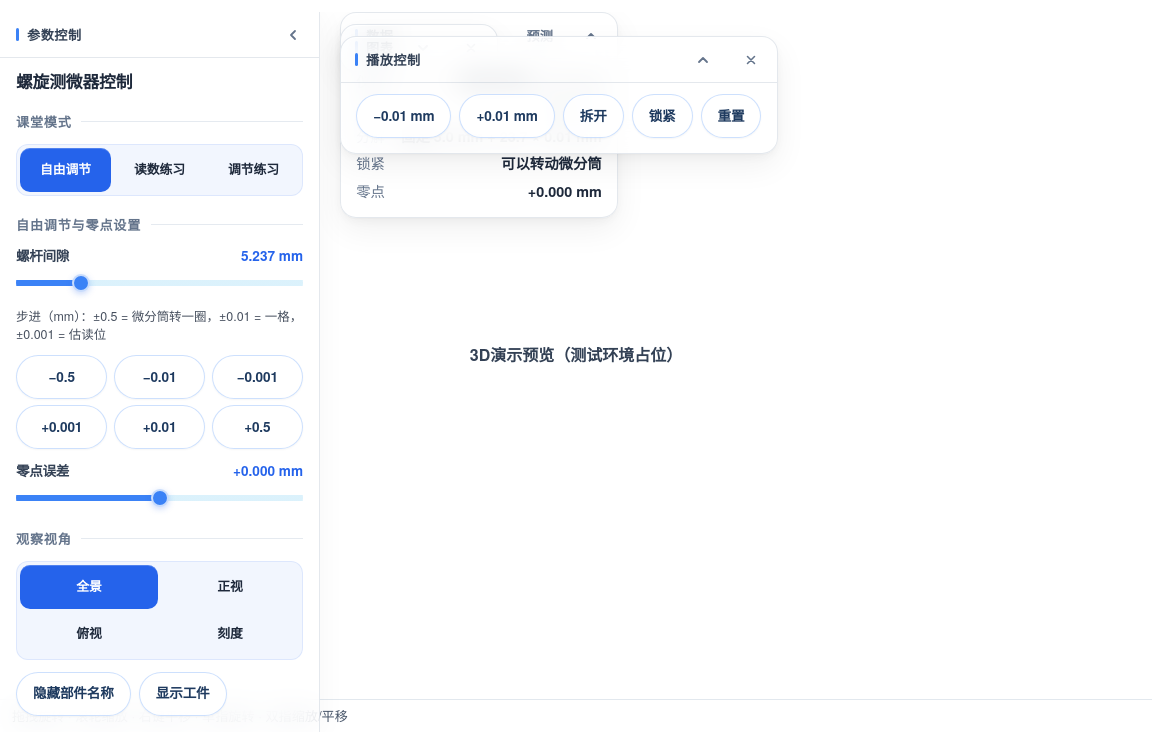
Test: micrometer structure › shows the indicated value, gap plus zero error
Set the slider labelled "零点误差" to "0.02" at (214, 498), box 16,476 -> 303,520
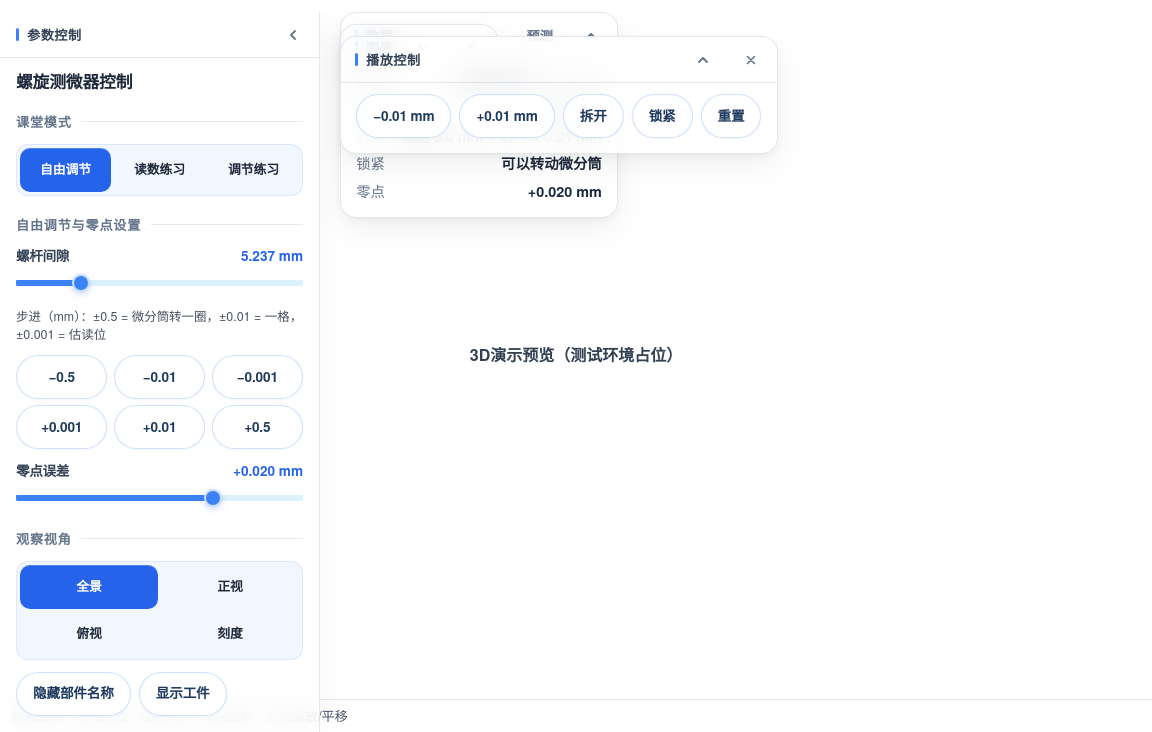
Expected: the text "5.257 mm" is shown, 536,99 -> 602,120
Expected: the text "+0.020 mm" below "可以转动微分筒" is shown, 528,181 -> 602,201
